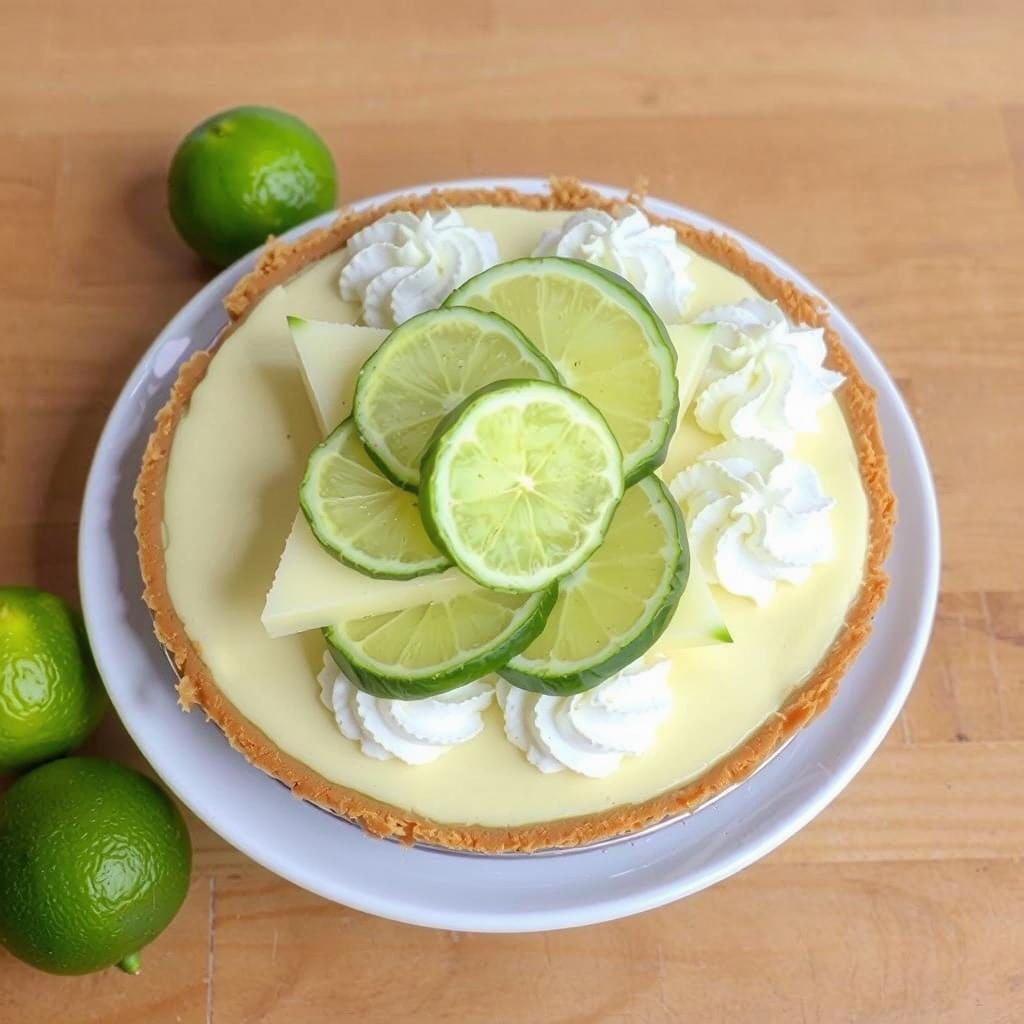pie: (129, 177, 911, 870)
